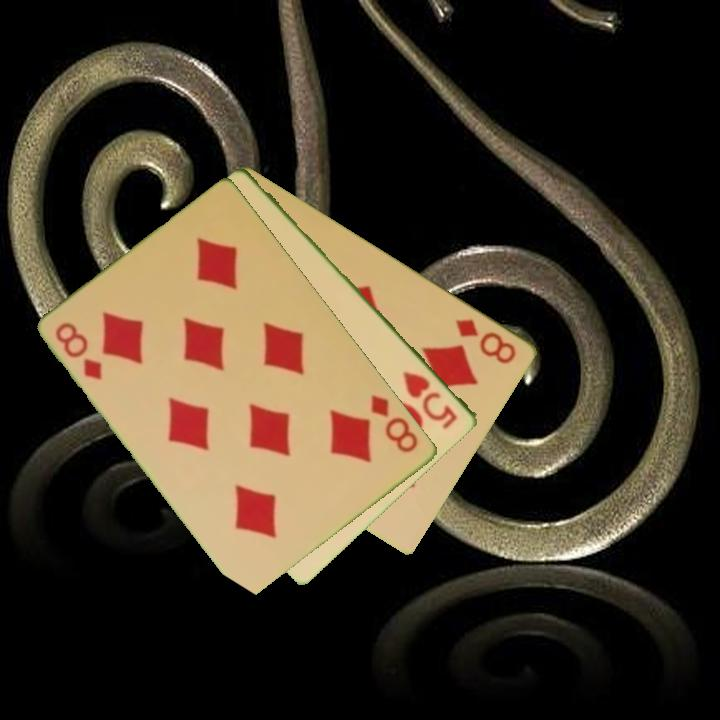5h: (399, 367, 461, 432)
8d: (367, 391, 422, 456), (52, 318, 106, 384), (452, 315, 520, 367)
